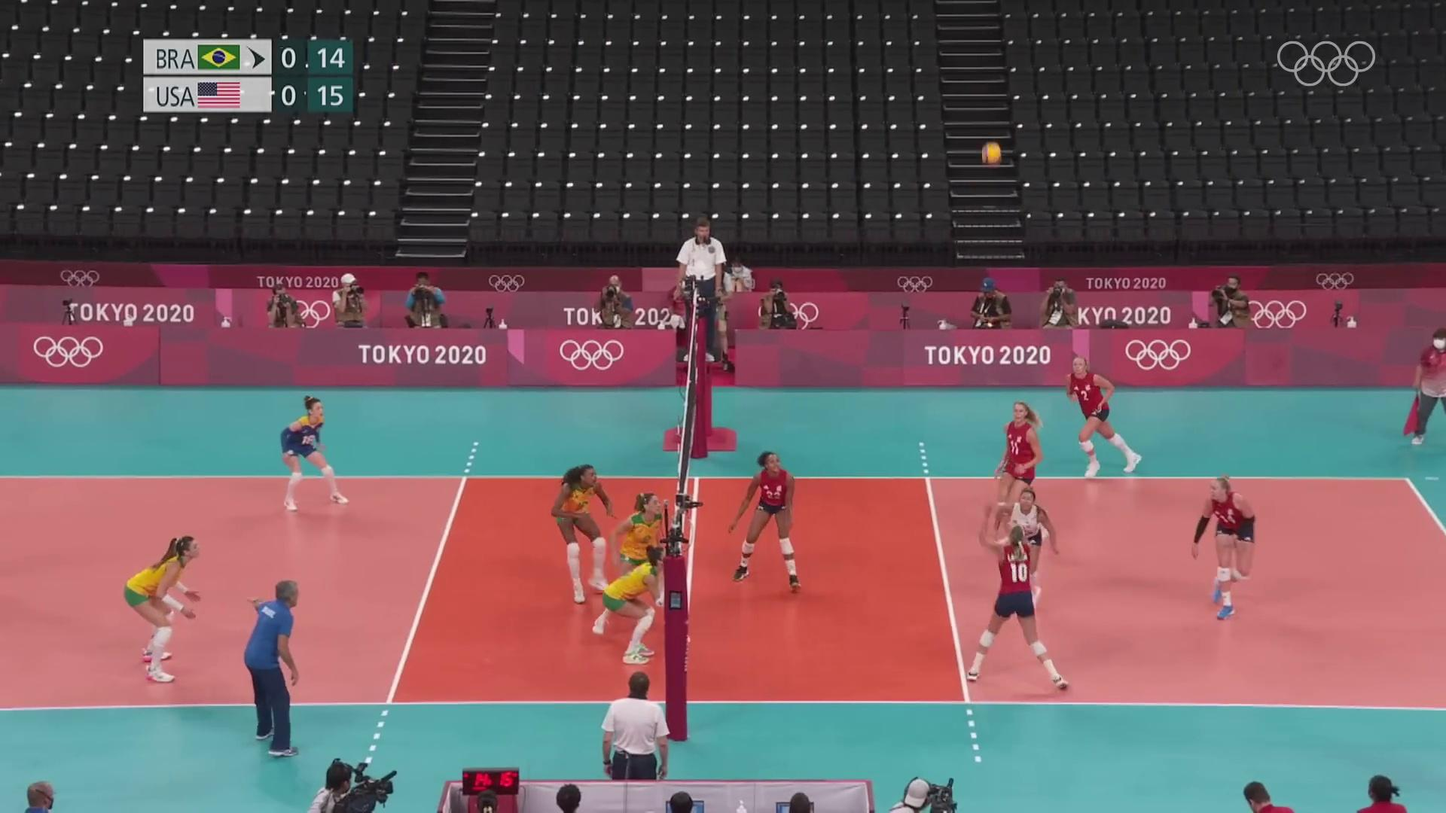player: (960, 504, 1075, 692), (125, 536, 207, 683), (732, 453, 809, 592), (981, 400, 1047, 553), (1196, 479, 1265, 622), (599, 541, 674, 668), (1064, 357, 1142, 479), (997, 482, 1061, 616), (552, 467, 611, 611), (280, 398, 353, 511), (612, 488, 668, 608)
refree: (600, 668, 670, 813), (677, 219, 725, 366), (1405, 323, 1446, 446)
